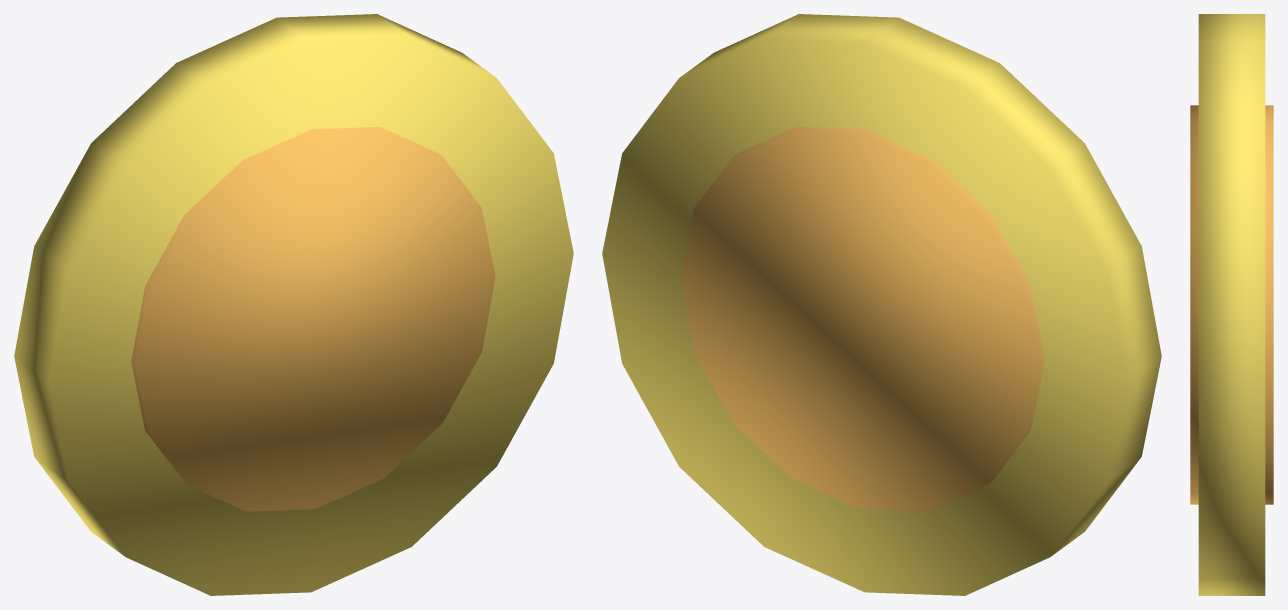
File: Prop_Coin.fbx
3 views of the same model, side by side, from view 1: azimuth 30°, elevation 25°; view 2: azimuth 150°, elevation 25°; view 3: azimuth 270°, elevation 25° (orthographic). The views are drawn at different scales.
Visible parts, largest first — view 1: Prop_Coin; view 2: Prop_Coin; view 3: Prop_Coin.
Boxes of the visible parts, x1,y1,x2,y2 form: Prop_Coin: [14, 14, 573, 595]; Prop_Coin: [602, 14, 1161, 595]; Prop_Coin: [1190, 14, 1273, 595].
Bounding box in the file's own units: 0.7 × 0.7 × 0.1.
